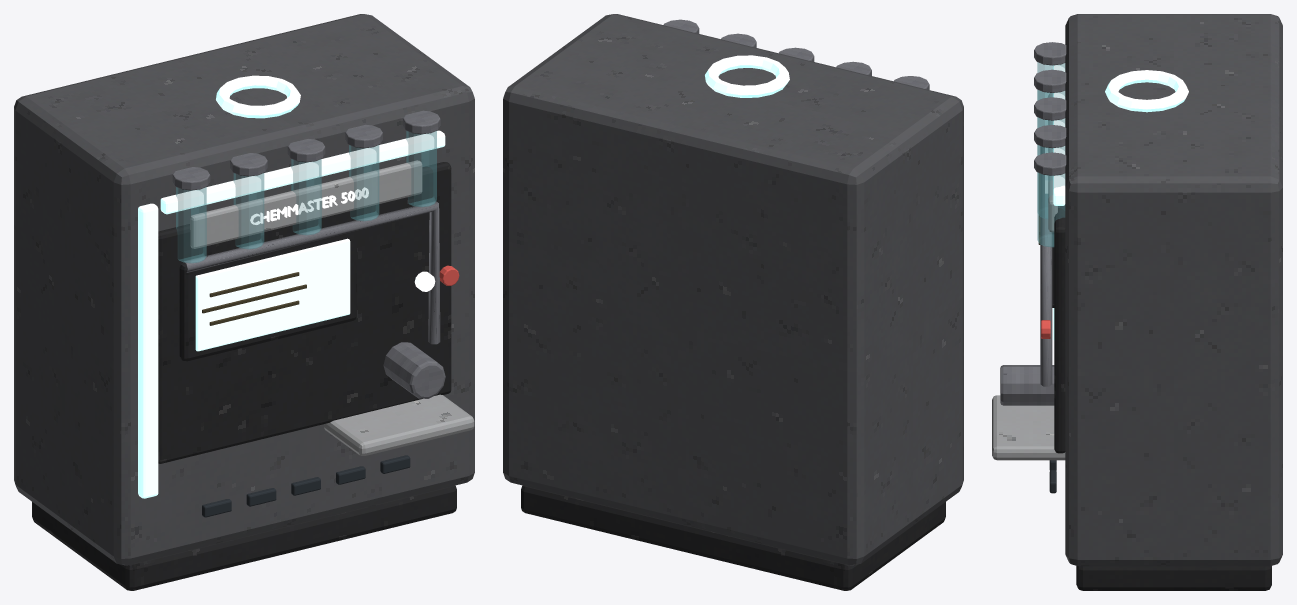
Rendered from machine_chem_master_5000.glb.
3 renders of one model, left to right at view 1: azimuth 30°, elevation 25°; view 2: azimuth 150°, elevation 25°; view 3: azimuth 270°, elevation 25°, orthographic.
Parts seen in each view (by area): view 1: MCH_ChemMaster5000__Main_Casing, MCH_ChemMaster5000__Front_Service_Panel, MCH_ChemMaster5000__Acquisition_Screen_Glow, MCH_ChemMaster5000__Plinth, MCH_ChemMaster5000__Title_Plate, MCH_ChemMaster5000__Accent_Rail_Left, MCH_ChemMaster5000__Beaker_Shelf, MCH_ChemMaster5000__Accent_Rail_Top, MCH_ChemMaster5000__Reagent_Manifold, MCH_ChemMaster5000__Acquisition_Screen_Bezel, MCH_ChemMaster5000__Dispense_Nozzle, MCH_ChemMaster5000__Top_Dock_Ring (+11 smaller); view 2: MCH_ChemMaster5000__Main_Casing, MCH_ChemMaster5000__Plinth, MCH_ChemMaster5000__Top_Dock_Ring; view 3: MCH_ChemMaster5000__Main_Casing, MCH_ChemMaster5000__Plinth, MCH_ChemMaster5000__Beaker_Shelf, MCH_ChemMaster5000__Front_Service_Panel, MCH_ChemMaster5000__Reagent_Manifold, MCH_ChemMaster5000__Top_Dock_Ring, MCH_ChemMaster5000__Dispense_Nozzle, MCH_ChemMaster5000__Reagent_Tube_5, MCH_ChemMaster5000__Accent_Rail_Top, MCH_ChemMaster5000__Reagent_Cap_3, MCH_ChemMaster5000__Reagent_Cap_2, MCH_ChemMaster5000__Reagent_Cap_5 (+4 smaller).
Boxes of the visible parts, <box> form: MCH_ChemMaster5000__Main_Casing: <box>14,14,474,565</box>; MCH_ChemMaster5000__Front_Service_Panel: <box>158,162,451,463</box>; MCH_ChemMaster5000__Acquisition_Screen_Glow: <box>195,238,350,351</box>; MCH_ChemMaster5000__Plinth: <box>32,485,456,590</box>; MCH_ChemMaster5000__Title_Plate: <box>190,160,422,248</box>; MCH_ChemMaster5000__Accent_Rail_Left: <box>138,203,158,498</box>; MCH_ChemMaster5000__Beaker_Shelf: <box>324,394,474,455</box>; MCH_ChemMaster5000__Accent_Rail_Top: <box>160,130,445,214</box>; MCH_ChemMaster5000__Reagent_Manifold: <box>184,201,440,344</box>; MCH_ChemMaster5000__Acquisition_Screen_Bezel: <box>179,230,356,361</box>; MCH_ChemMaster5000__Dispense_Nozzle: <box>383,342,445,398</box>; MCH_ChemMaster5000__Top_Dock_Ring: <box>216,75,300,118</box>; MCH_ChemMaster5000__Main_Casing: <box>503,14,963,565</box>; MCH_ChemMaster5000__Plinth: <box>521,485,945,590</box>; MCH_ChemMaster5000__Top_Dock_Ring: <box>705,55,789,97</box>; MCH_ChemMaster5000__Main_Casing: <box>1065,14,1282,566</box>; MCH_ChemMaster5000__Plinth: <box>1076,566,1271,590</box>; MCH_ChemMaster5000__Beaker_Shelf: <box>992,395,1065,460</box>; MCH_ChemMaster5000__Front_Service_Panel: <box>1054,205,1065,453</box>; MCH_ChemMaster5000__Reagent_Manifold: <box>1040,147,1052,386</box>; MCH_ChemMaster5000__Top_Dock_Ring: <box>1105,70,1188,112</box>; MCH_ChemMaster5000__Dispense_Nozzle: <box>1000,365,1054,405</box>; MCH_ChemMaster5000__Reagent_Tube_5: <box>1037,172,1065,247</box>; MCH_ChemMaster5000__Accent_Rail_Top: <box>1053,63,1065,205</box>; MCH_ChemMaster5000__Reagent_Cap_3: <box>1034,97,1066,120</box>; MCH_ChemMaster5000__Reagent_Cap_2: <box>1034,69,1066,92</box>; MCH_ChemMaster5000__Reagent_Cap_5: <box>1034,152,1066,175</box>.
Bounding box in the file's own units: 1.5 × 1.74 × 1.07.
11 materials, 4 textured.
